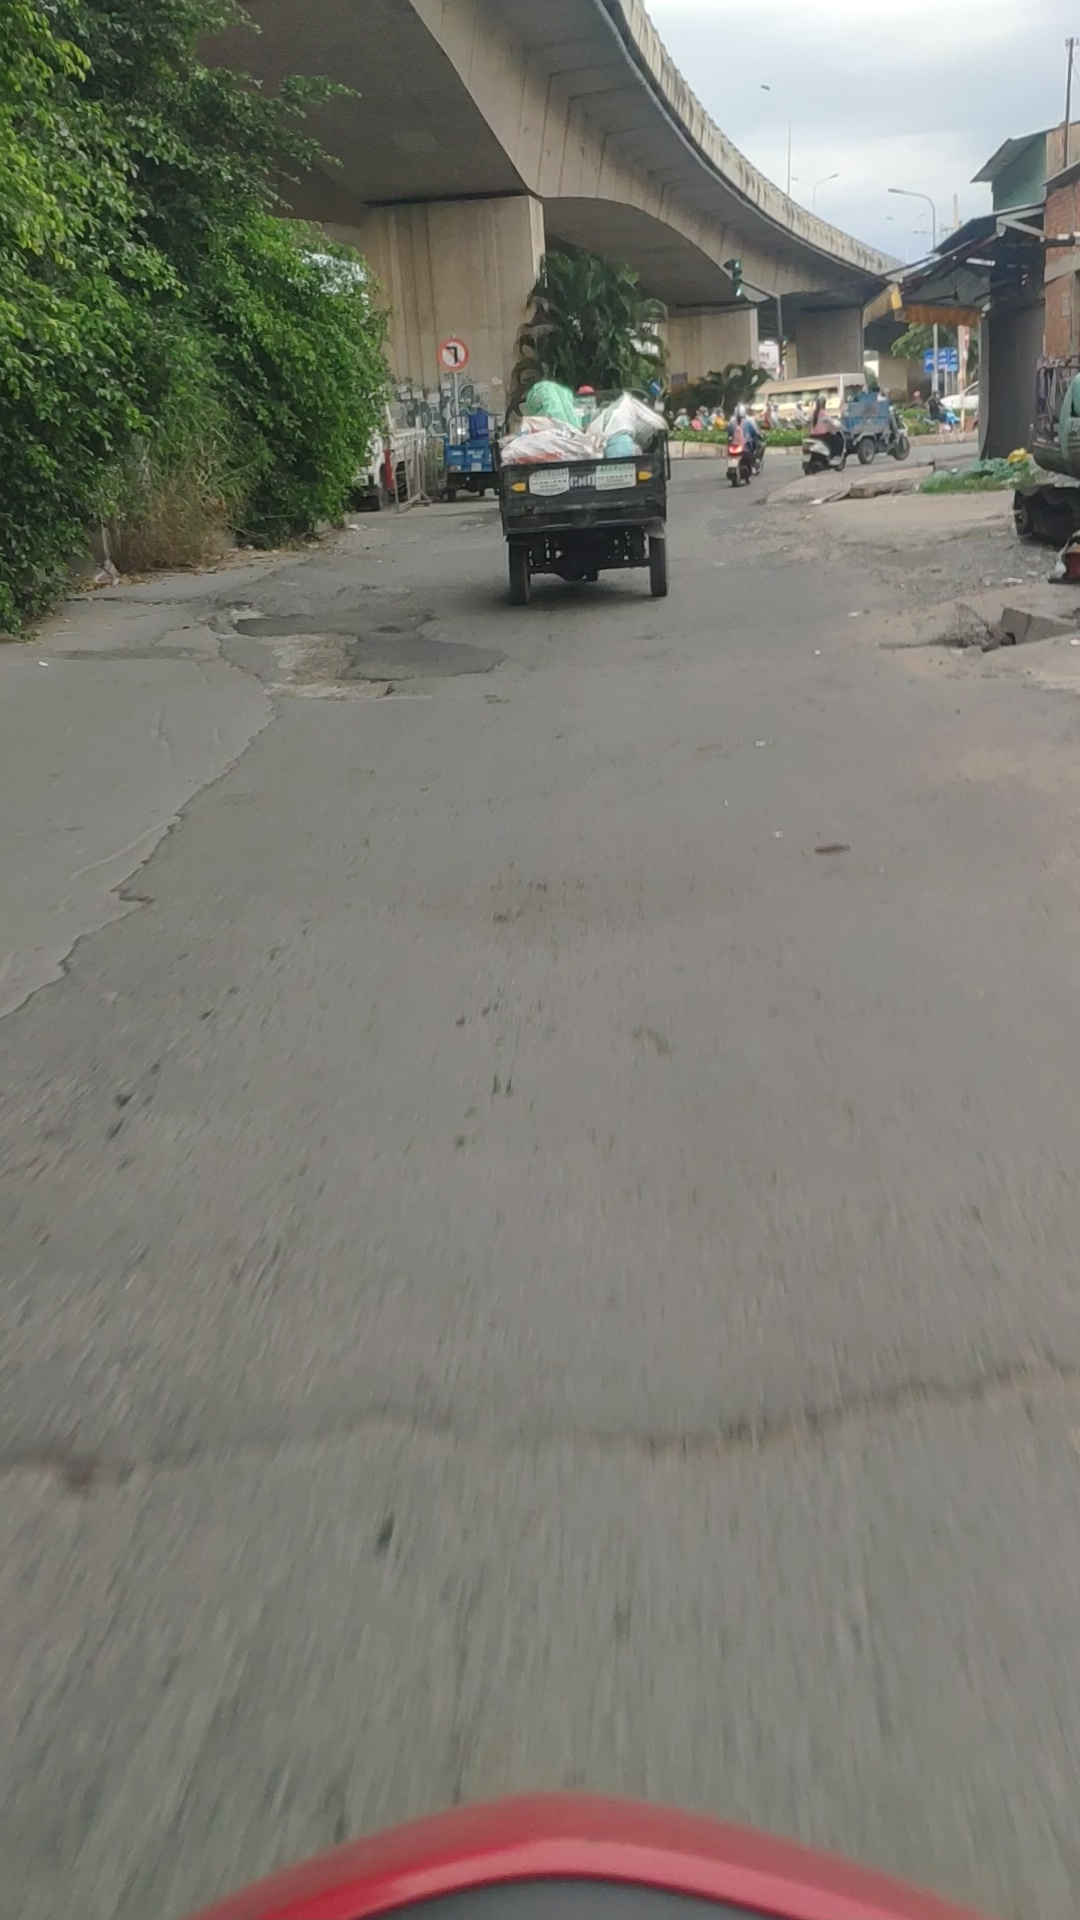hole: (233, 626, 425, 705), (216, 593, 280, 624)
